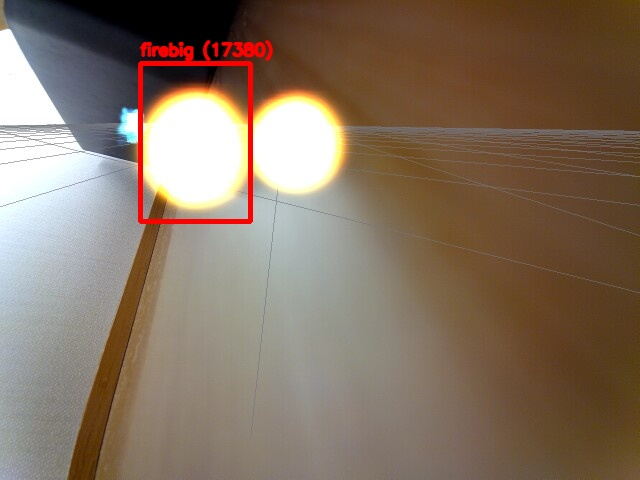firebig: (140, 63, 250, 221)
